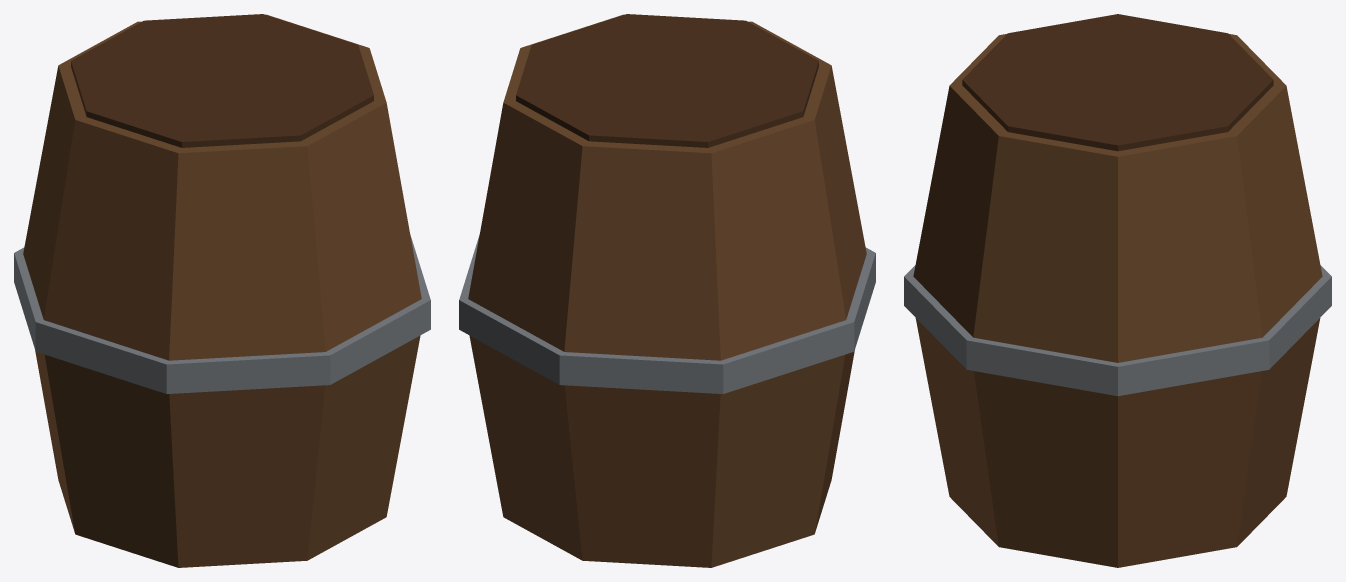
Rendered from barrel.glb.
3 views of the same model, side by side, from view 1: azimuth 30°, elevation 25°; view 2: azimuth 150°, elevation 25°; view 3: azimuth 270°, elevation 25° (orthographic).
Parts seen in each view (by area): view 1: barrel; view 2: barrel; view 3: barrel.
Boxes of the visible parts, x1=… form: barrel: x1=14, y1=14, x2=430, y2=567; barrel: x1=459, y1=14, x2=875, y2=567; barrel: x1=904, y1=14, x2=1331, y2=567.
Bounding box in the file's own units: 0.66 × 0.71 × 0.66.
